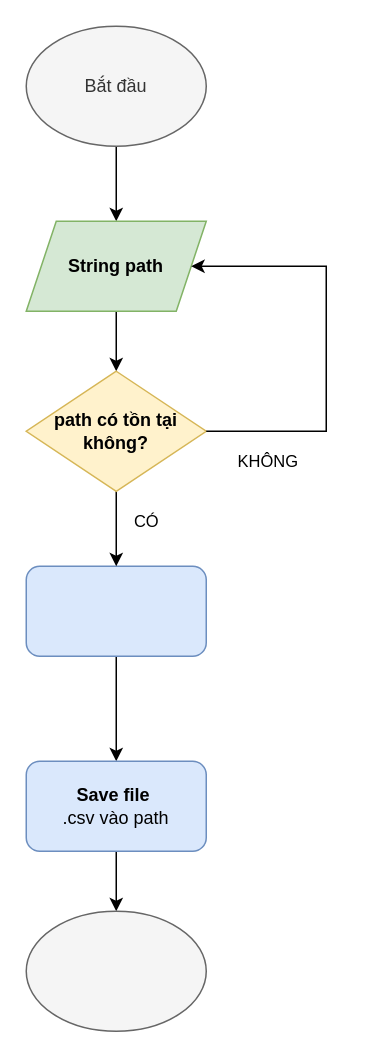
The diagram is 365 pixels wide and 1058 high, and some of its shapes have lost their labels. Here are the shapes that lost their labels. From the top down, the centre of each, then its label:
the point at 115,610: Ghi Deck ra file .csv
the point at 115,970: Kết thúc
